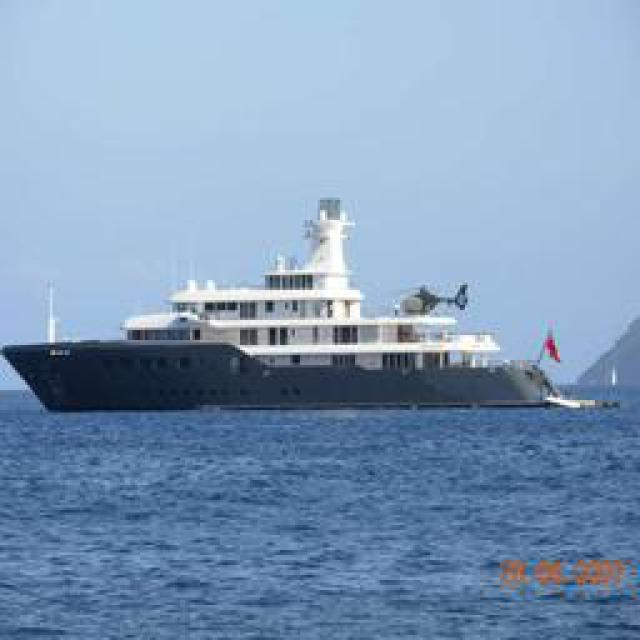Ship: (57, 208, 590, 413)
